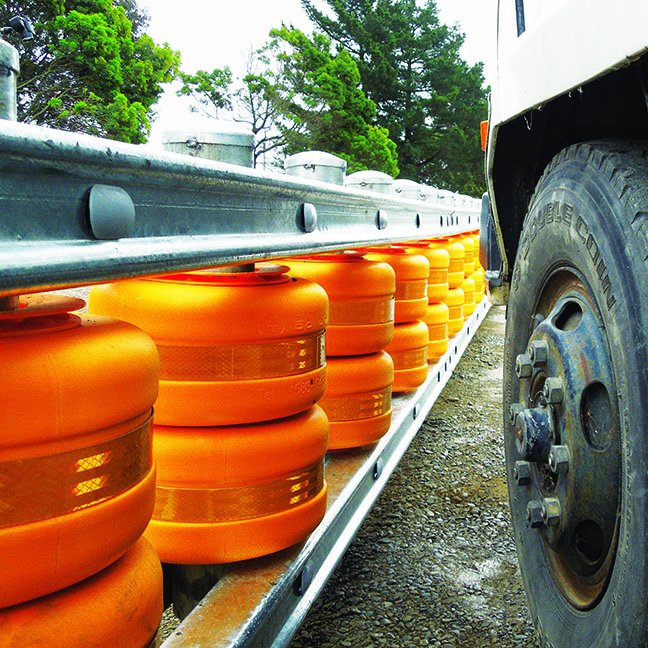not_damaged: (0, 183, 477, 648)
